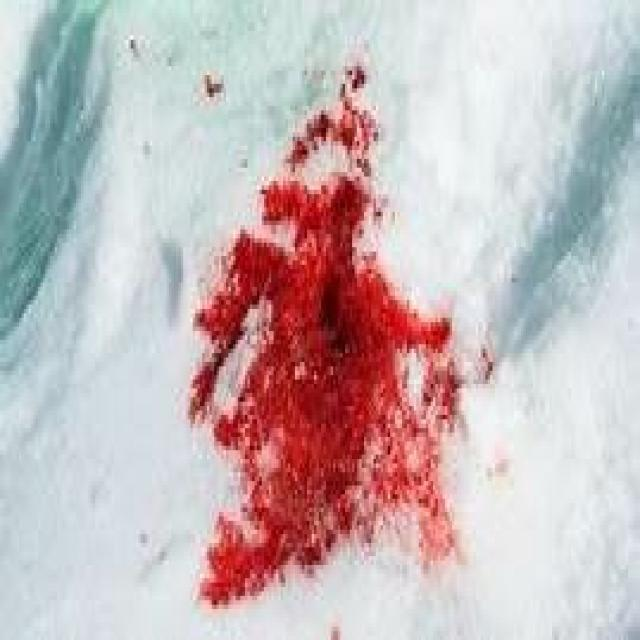wound: (146, 59, 500, 630)
